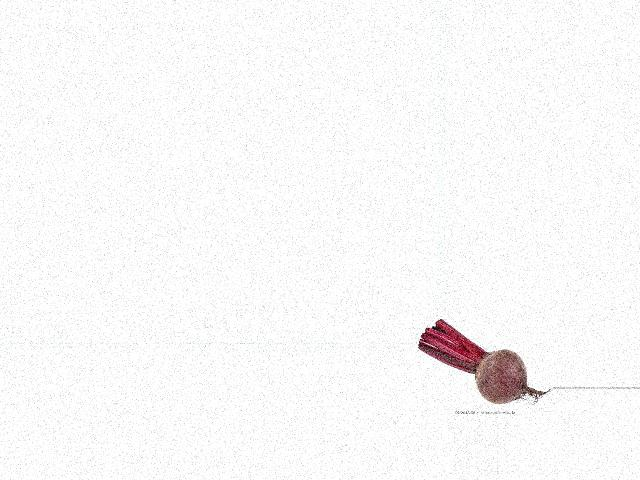beet: (417, 320, 550, 404)
